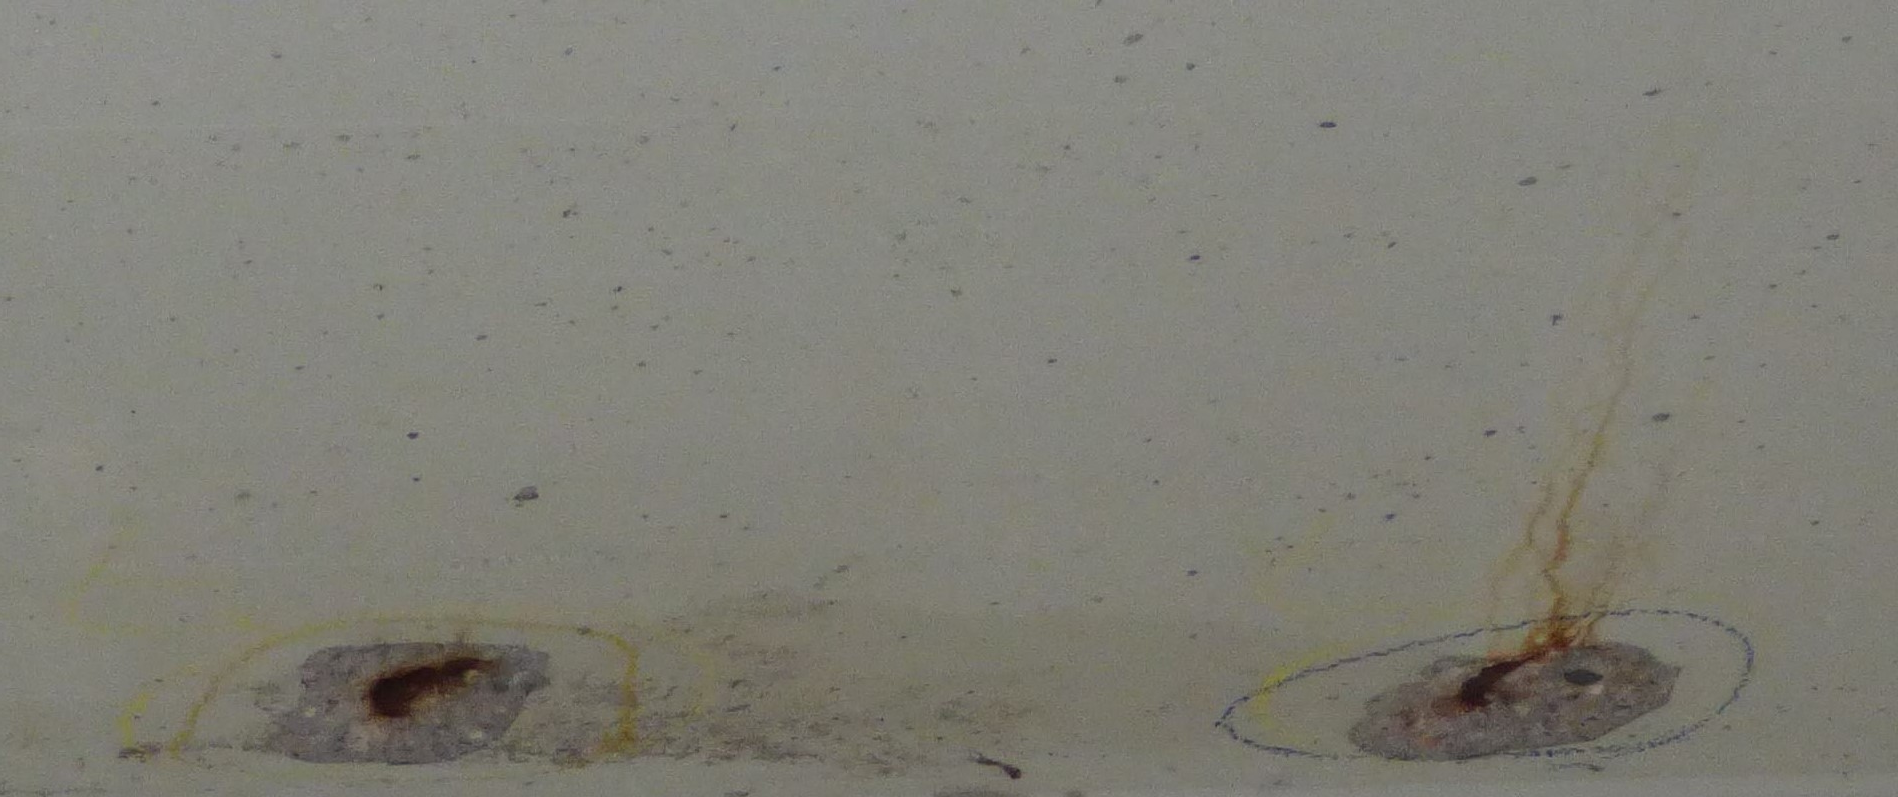Exposed reinforcement: (370, 656, 488, 719), (1459, 655, 1537, 709)
Spalling: (1346, 642, 1681, 762), (266, 641, 553, 766)
